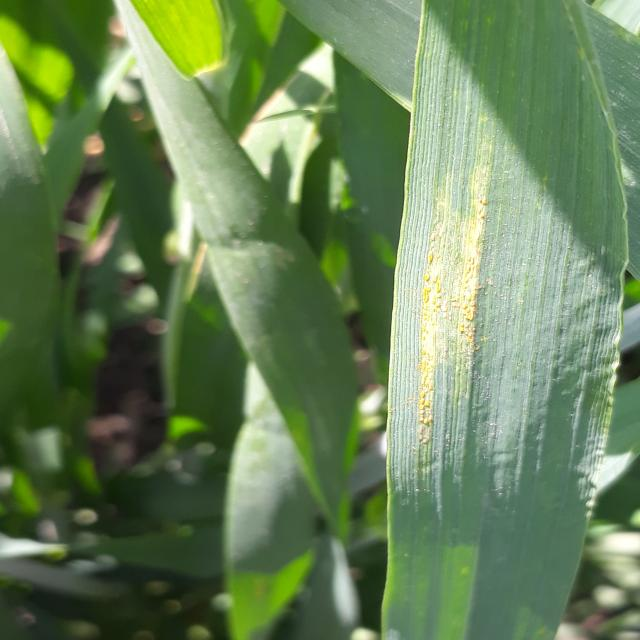yellow_rust: (366, 105, 513, 501)
